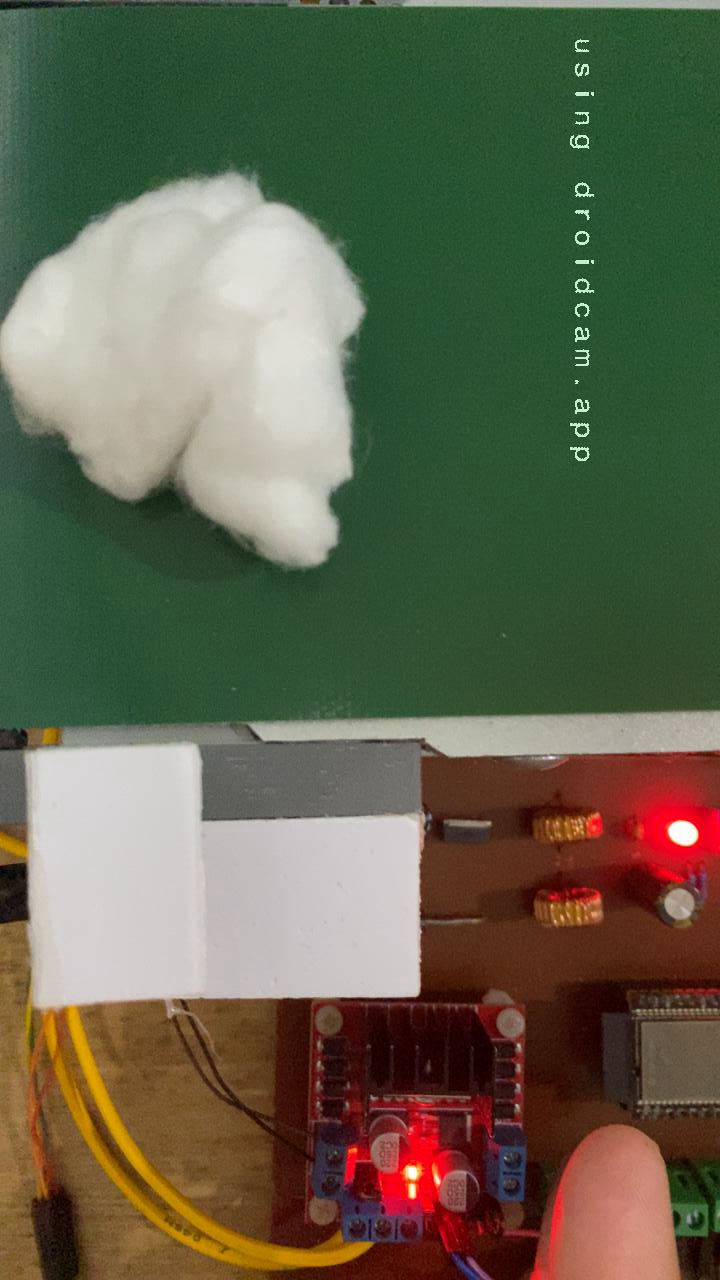cotton: (0, 166, 374, 573)
